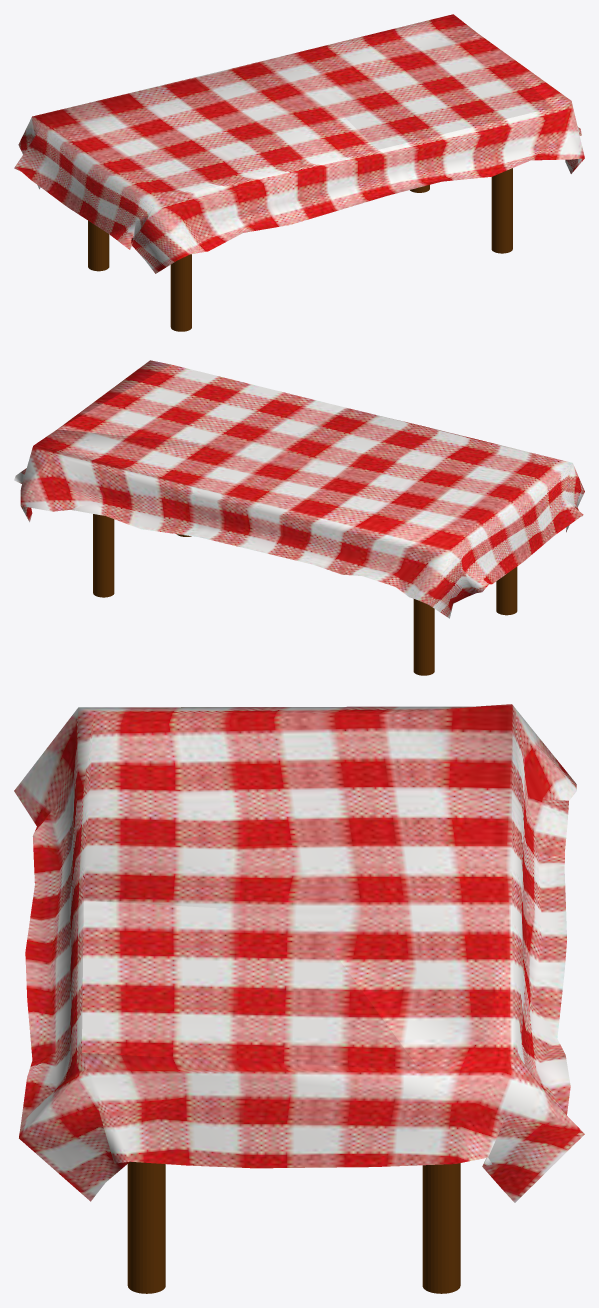
Rendered from table.dae.
3 views of the same model, one above another, from view 1: azimuth 30°, elevation 25°; view 2: azimuth 150°, elevation 25°; view 3: azimuth 270°, elevation 25° (orthographic). The views are drawn at different scales.
Parts seen in each view (by area): view 1: Plane, Cylinder_001, Cylinder, Cylinder_003; view 2: Plane, Cylinder_002, Cylinder_003, Cylinder; view 3: Plane, Cylinder_001, Cylinder_002.
Boxes of the visible parts, box(x1,y1,x2,y2) form: Plane: box(14, 14, 584, 273); Cylinder_001: box(491, 168, 512, 253); Cylinder: box(170, 254, 191, 331); Cylinder_003: box(88, 220, 109, 271); Plane: box(14, 360, 584, 618); Cylinder_002: box(93, 514, 114, 597); Cylinder_003: box(413, 599, 434, 675); Cylinder: box(496, 566, 517, 615); Plane: box(14, 704, 584, 1202); Cylinder_001: box(127, 1161, 165, 1293); Cylinder_002: box(422, 1163, 460, 1293).
Bounding box in the file's own units: 4.55 × 2.68 × 1.37.
Materials: 2 (1 with a texture image).
